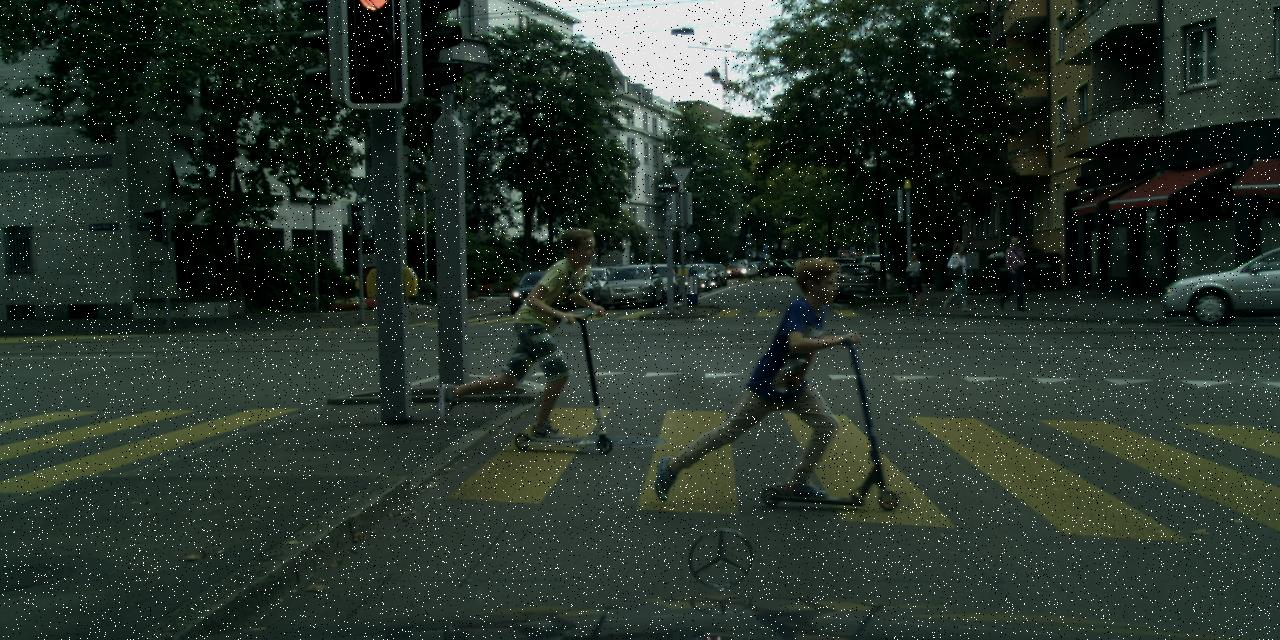ped: (726, 259, 822, 494), (498, 228, 578, 425), (998, 235, 1028, 308), (942, 242, 969, 308), (902, 250, 926, 310)
